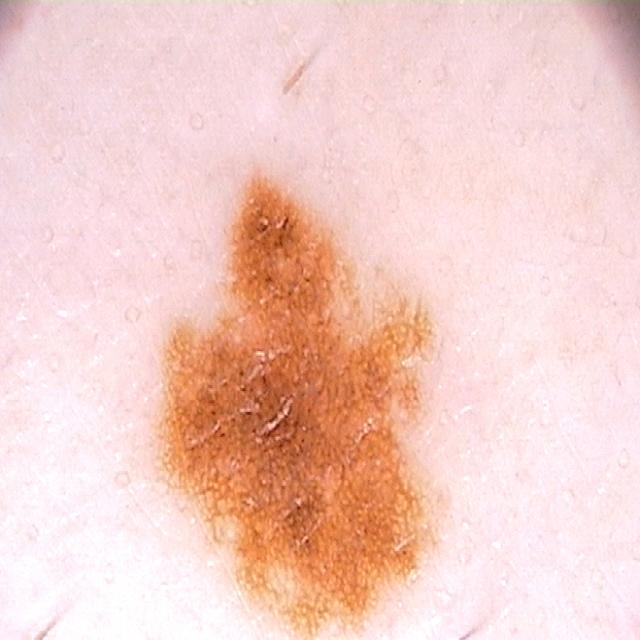Melanoma: (126, 155, 508, 640)
